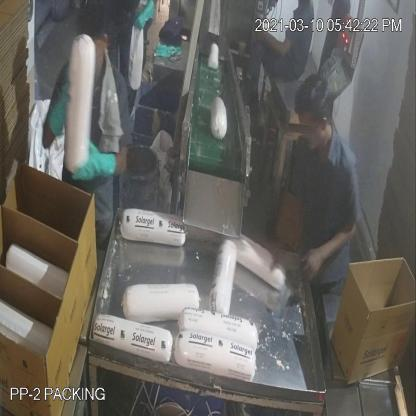glove: (68, 129, 121, 189)
no_glove: (300, 214, 360, 300), (254, 25, 296, 67)
